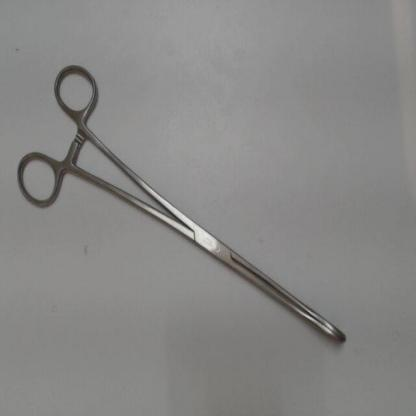Sponge Forceps: (6, 56, 356, 354)
